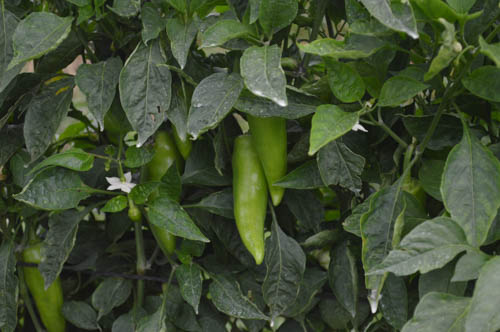ChiliPepper: (226, 134, 266, 273), (137, 130, 176, 254), (248, 95, 290, 206), (22, 245, 65, 330)
